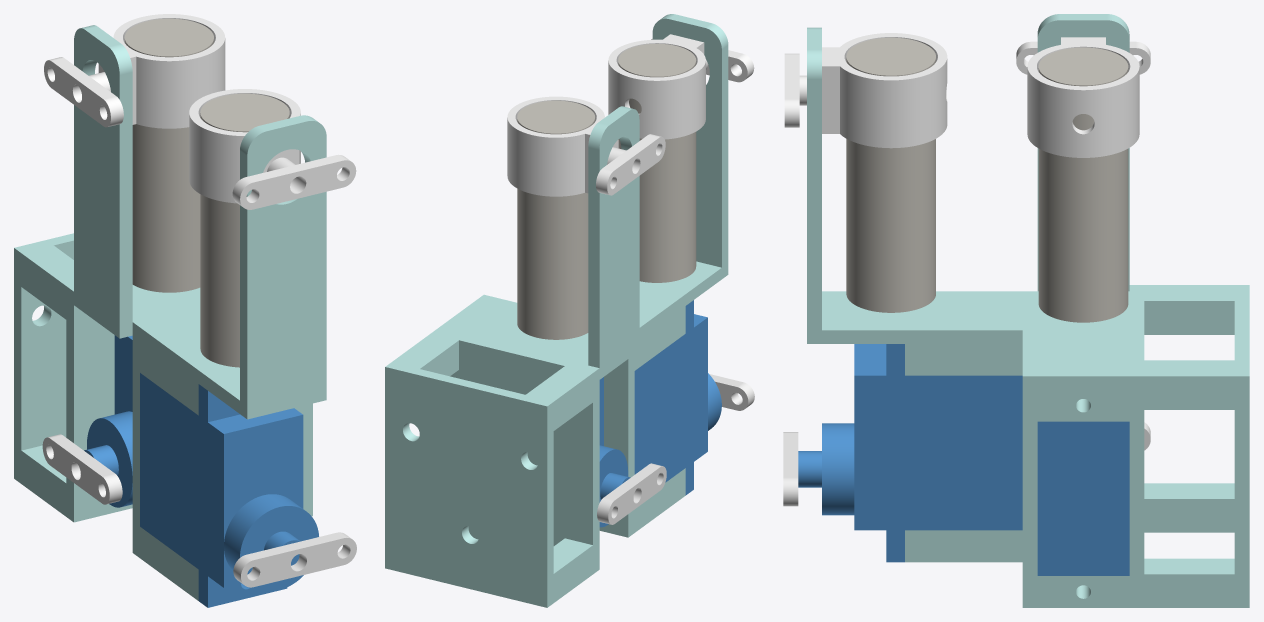
File: laser.gltf
3 views of the same model, side by side, from view 1: azimuth 30°, elevation 25°; view 2: azimuth 150°, elevation 25°; view 3: azimuth 270°, elevation 25° (orthographic). The views are drawn at different scales.
Parts seen in each view (by area): view 1: Part 2, Part 1 (×4), Part 3 (×2), Part 4 (×4); view 2: Part 2, Part 1 (×4), Part 3 (×2), Part 4 (×4); view 3: Part 2, Part 1 (×4), Part 3 (×2), Part 4 (×3).
Part boxes in pixels (<box>): Part 2: <box>14,25,326,600</box>; Part 1 (×4): <box>84,14,318,607</box>; Part 3 (×2): <box>124,18,289,367</box>; Part 4 (×4): <box>42,57,356,587</box>; Part 2: <box>385,14,728,607</box>; Part 1 (×4): <box>507,34,721,527</box>; Part 3 (×2): <box>517,43,696,339</box>; Part 4 (×4): <box>596,39,754,524</box>; Part 2: <box>807,14,1249,607</box>; Part 1 (×4): <box>798,33,1139,575</box>; Part 3 (×2): <box>846,37,1128,322</box>; Part 4 (×3): <box>783,41,1150,506</box>.
Bounding box in the file's own units: 0.032 × 0.0742 × 0.0624.
